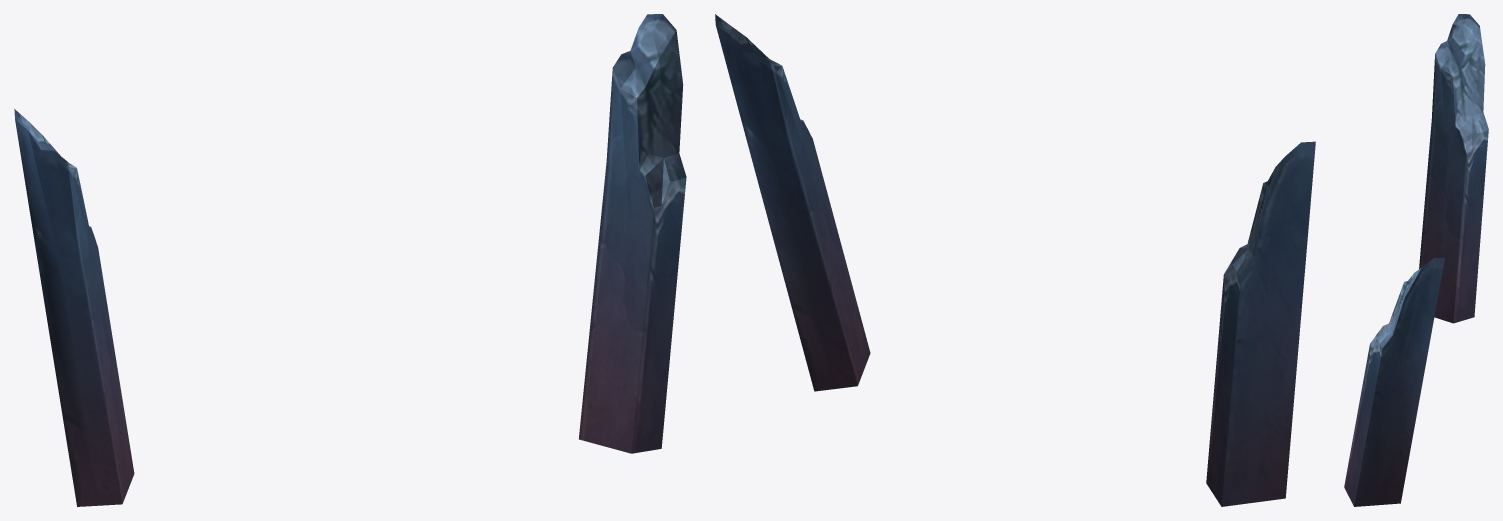
The model's file is Area05_8.fbx.
The picture shows the model from 3 angles, left to right: view 1: azimuth 30°, elevation 25°; view 2: azimuth 150°, elevation 25°; view 3: azimuth 270°, elevation 25°; orthographic projection. The views are drawn at different scales.
Visible parts, largest first — view 1: Area05_8; view 2: Area05_8; view 3: Area05_8.
Part boxes in pixels (x1,y1,x2,y2): Area05_8: [14, 14, 686, 506]; Area05_8: [715, 14, 1315, 506]; Area05_8: [1344, 14, 1488, 506].
Size of the model in its own units: 3946 by 2511 by 1097.
Materials: 1 (1 with a texture image).
